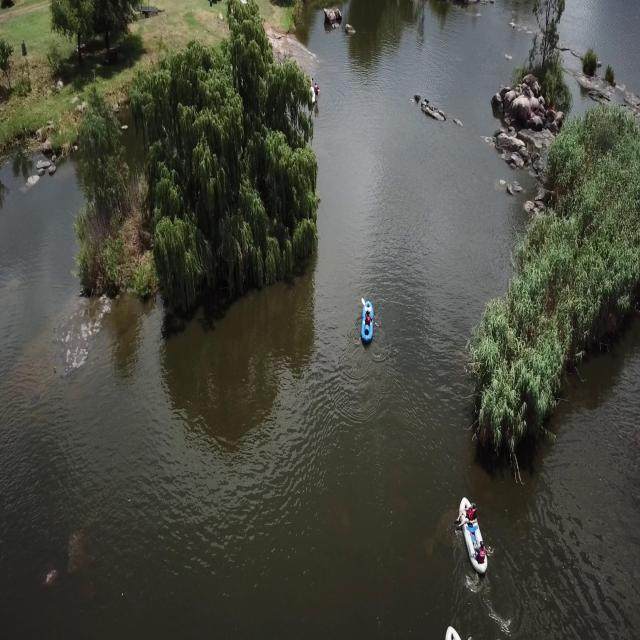kayak: (454, 492, 490, 589), (357, 296, 378, 351)
